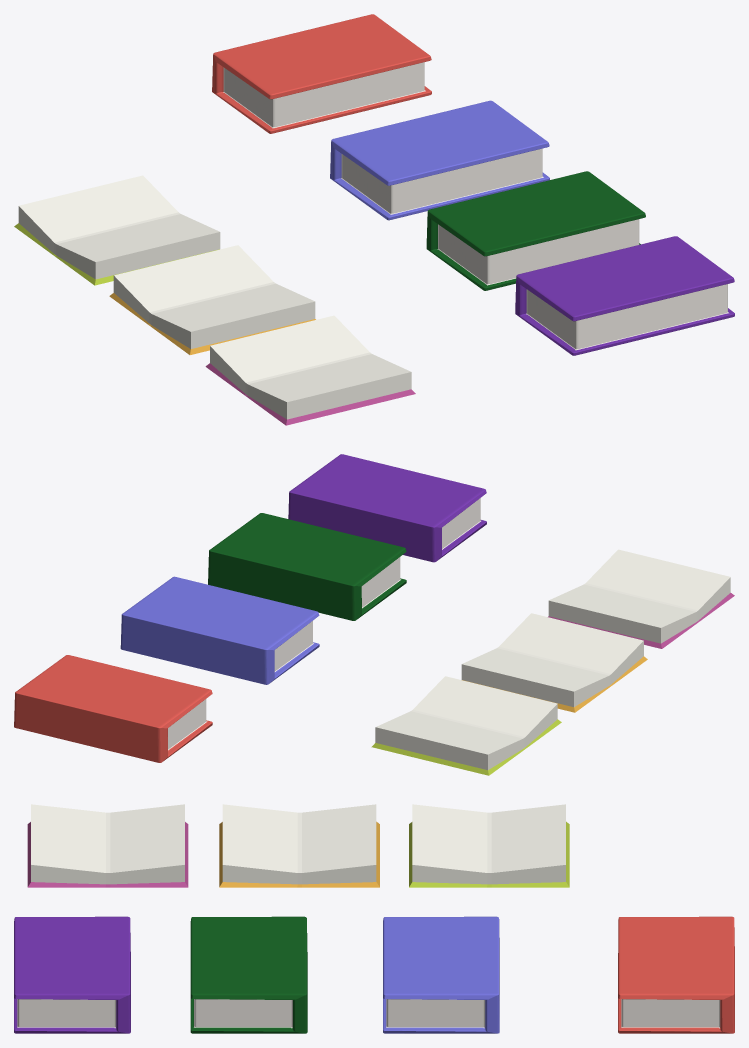
3 renders of one model, top to bottom at view 1: azimuth 30°, elevation 25°; view 2: azimuth 150°, elevation 25°; view 3: azimuth 270°, elevation 25°, orthographic. The views are drawn at different scales.
Visible parts, largest first — view 1: Cube, Cube.003, Cube.001, Cube.002, Cube.006, Cube.005, Cube.004; view 2: Cube, Cube.001, Cube.002, Cube.003, Cube.004, Cube.006, Cube.005; view 3: Cube.002, Cube, Cube.003, Cube.001, Cube.006, Cube.005, Cube.004.
Part boxes in pixels (box(x1,y1,x2,y2)): Cube: box(212, 14, 431, 133); Cube.003: box(515, 236, 734, 355); Cube.001: box(330, 100, 549, 220); Cube.002: box(426, 171, 645, 290); Cube.006: box(205, 315, 415, 425); Cube.005: box(109, 245, 315, 354); Cube.004: box(14, 175, 220, 285); Cube: box(14, 655, 212, 762); Cube.001: box(120, 576, 319, 684); Cube.002: box(208, 513, 406, 620); Cube.003: box(288, 454, 486, 562); Cube.004: box(371, 676, 561, 775); Cube.006: box(548, 549, 734, 648); Cube.005: box(461, 613, 647, 712); Cube.002: box(190, 916, 307, 1033); Cube: box(618, 916, 734, 1033); Cube.003: box(14, 916, 130, 1033); Cube.001: box(383, 916, 499, 1033); Cube.006: box(27, 804, 188, 887); Cube.005: box(219, 804, 379, 887); Cube.004: box(409, 804, 569, 887).
Bounding box in the file's own units: 233 × 22.38 × 328.
